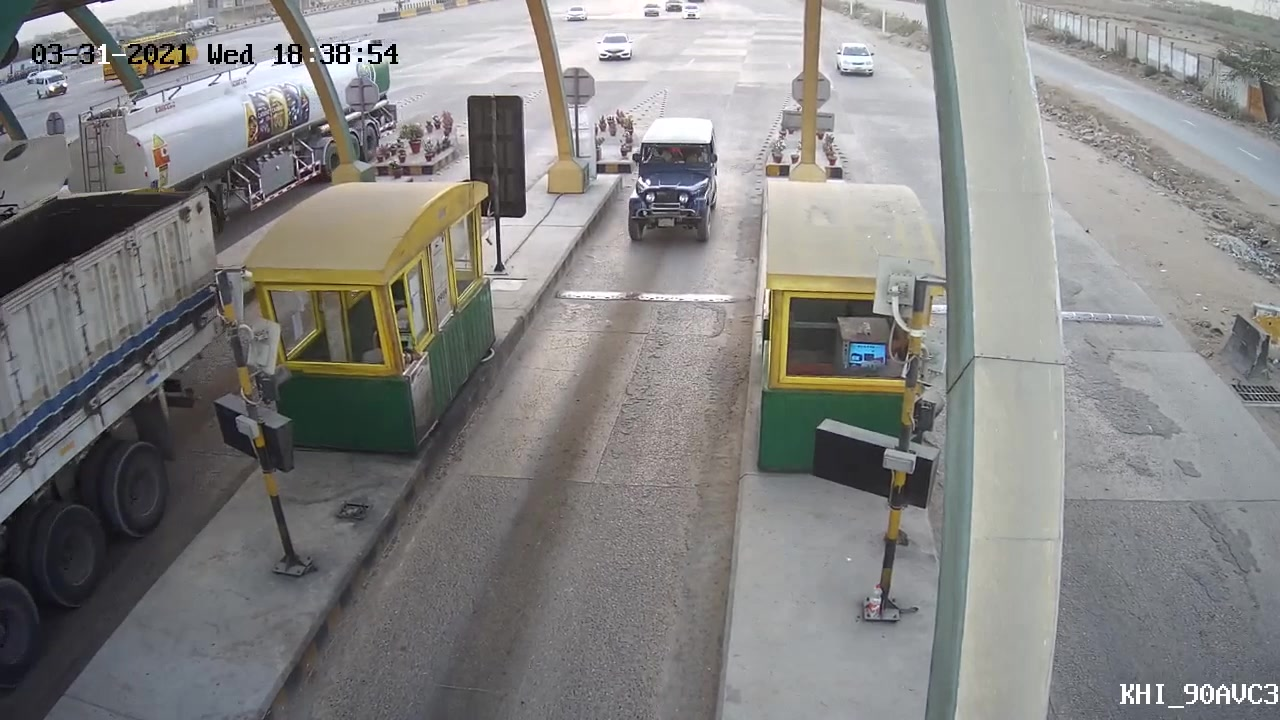F1: (612, 111, 729, 251)
